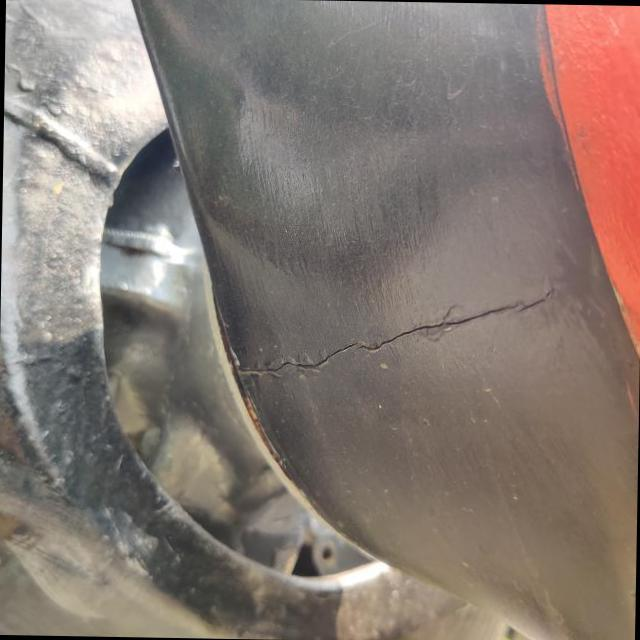Rupture: (224, 255, 569, 430)
